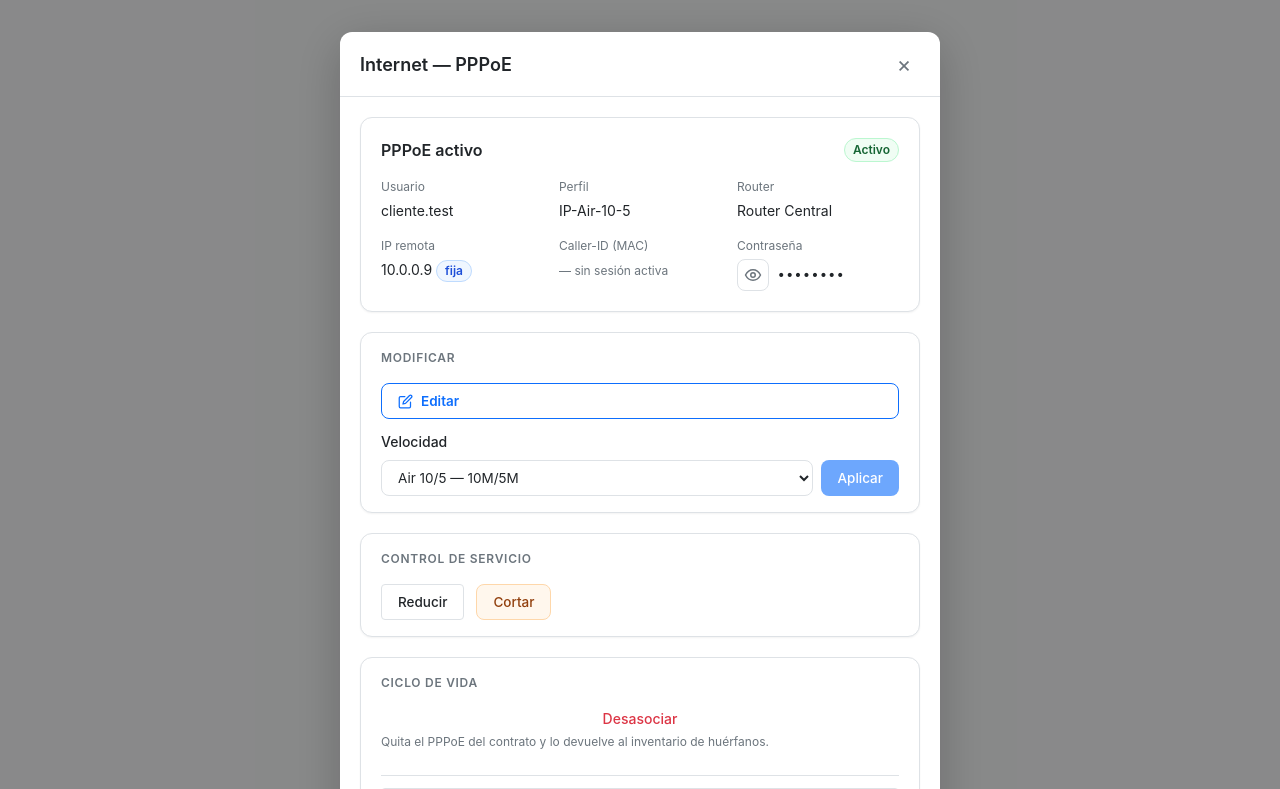
Test case: EP-2: el form de Editar tiene los campos esperados › tiene "Nueva contraseña", "IP remota" y "Router"
The image size is (1280, 789).
Click the button "Editar" at (440, 401), box x1=381 y1=383 x2=899 y2=419
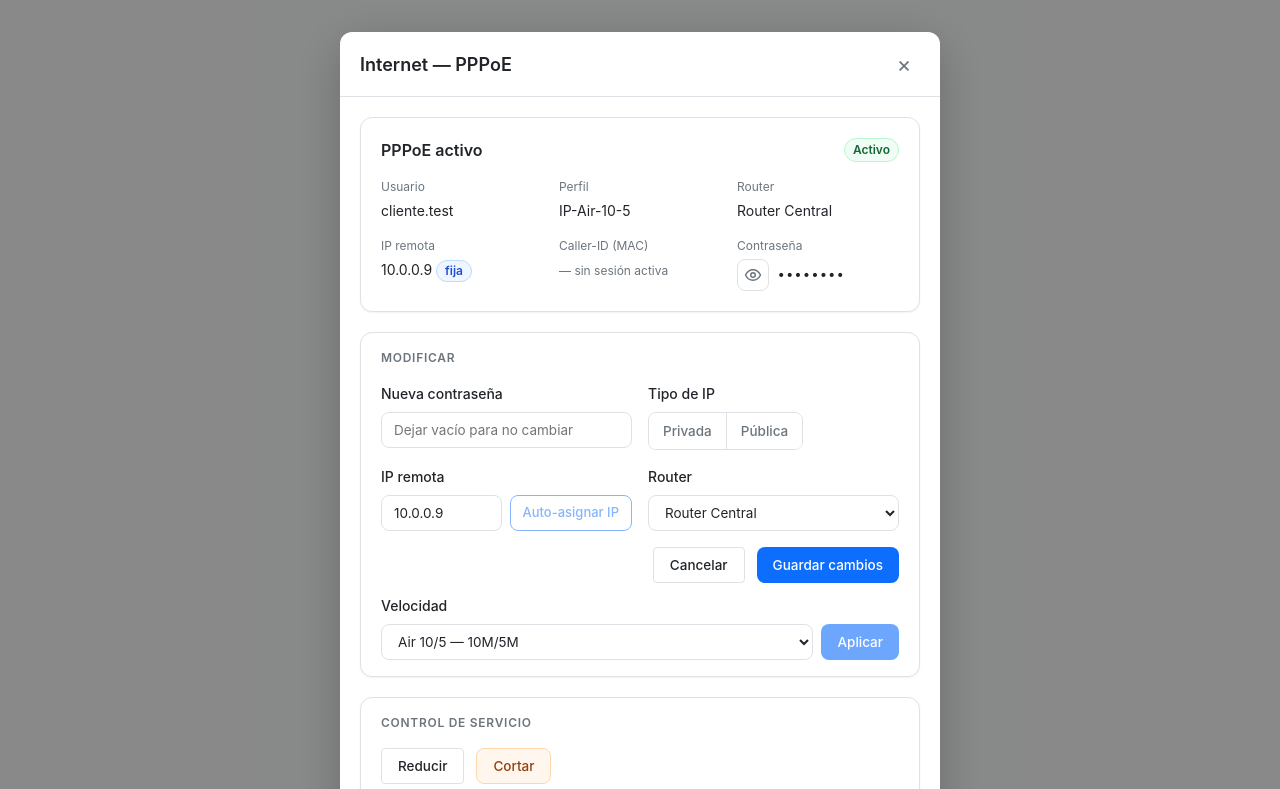
Expected: the password field labelled "Nueva contraseña" is shown, x1=381 y1=412 x2=632 y2=448
Expected: the field labelled "IP remota" is shown, x1=381 y1=495 x2=502 y2=531
Expected: the dropdown labelled "Router" is shown, x1=648 y1=495 x2=899 y2=531
